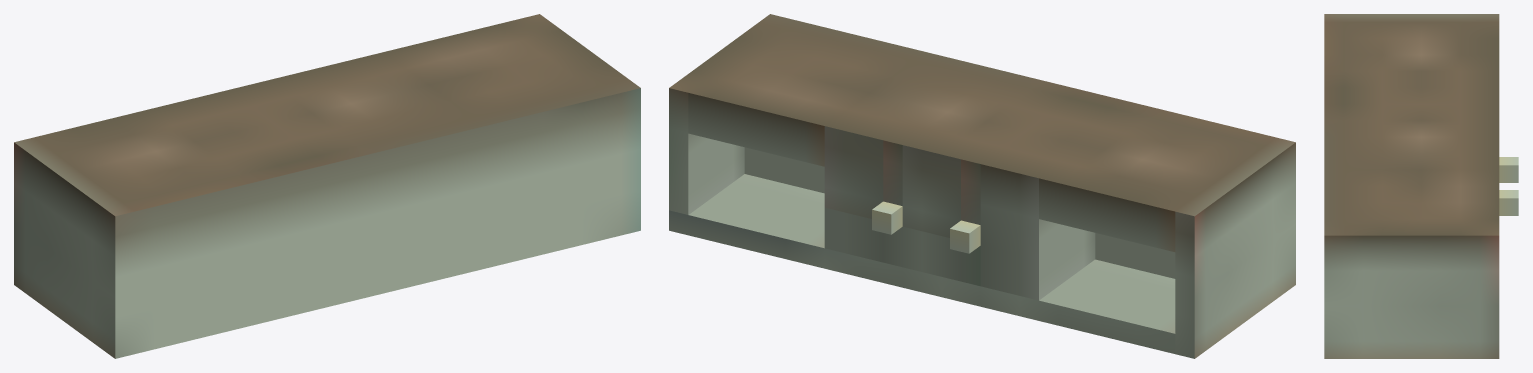
File: CabinetDarkGreyWide_00.fbx
3 renders of one model, left to right at view 1: azimuth 30°, elevation 25°; view 2: azimuth 150°, elevation 25°; view 3: azimuth 270°, elevation 25°, orthographic. The views are drawn at different scales.
Parts seen in each view (by area): view 1: CabinetDarkGreyWide_00; view 2: CabinetDarkGreyWide_00; view 3: CabinetDarkGreyWide_00.
Part boxes in pixels (x1,y1,x2,y2): CabinetDarkGreyWide_00: (14,14,640,358); CabinetDarkGreyWide_00: (669,14,1295,358); CabinetDarkGreyWide_00: (1324,14,1518,358).
Bounding box in the file's own units: 135 × 50 × 35.
1 material, 1 textured.
